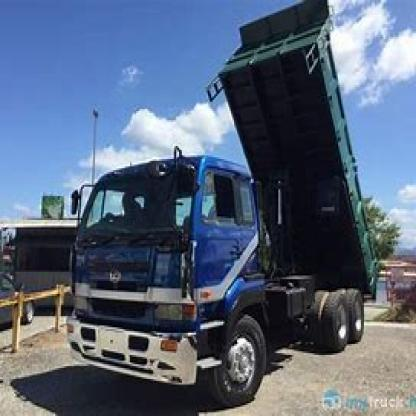dump_truck: (60, 0, 386, 403)
